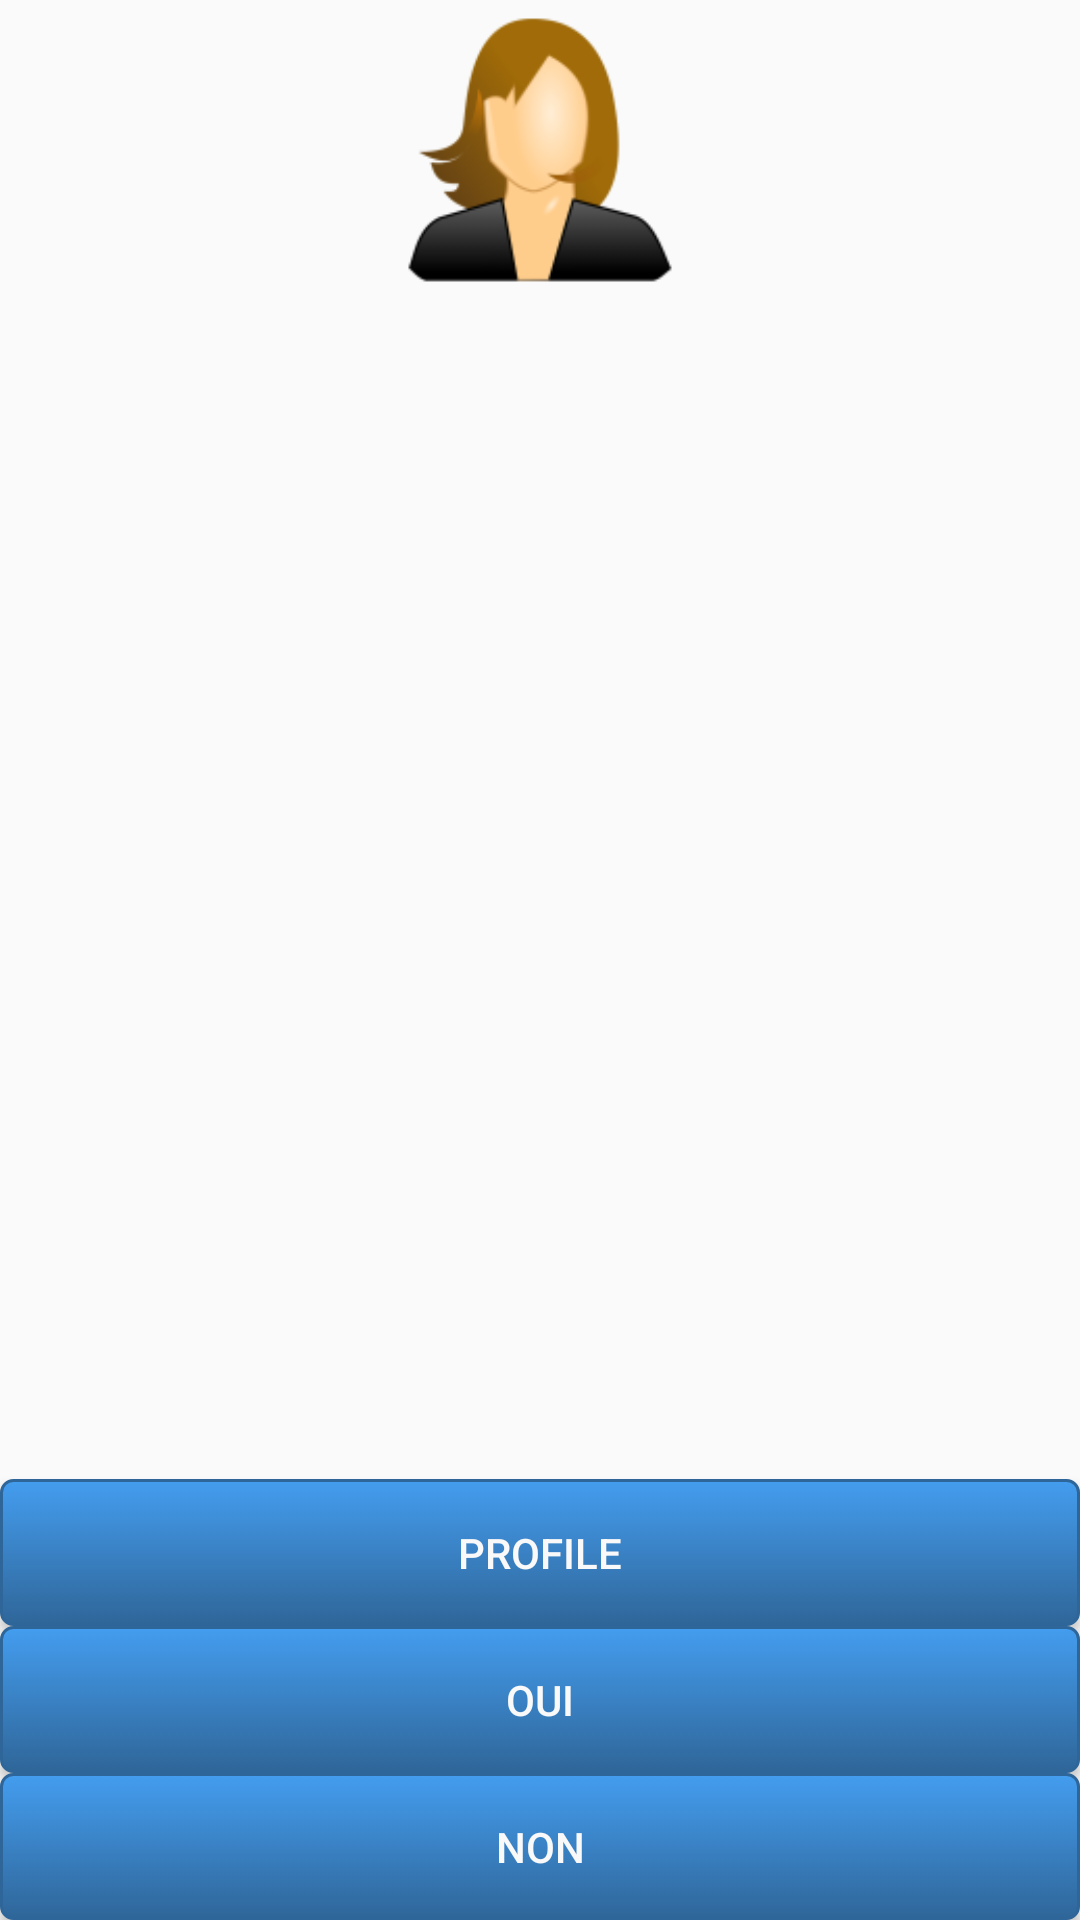

Point at icon controls on the screen. Image size 1080 × 1920, points as (x=x, y=y).
profil: (x=540, y=150)
